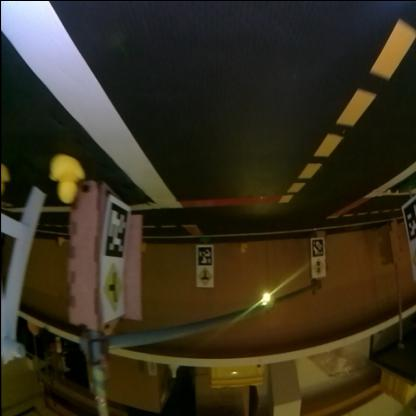Duckie: (49, 155, 84, 203), (1, 164, 10, 196), (240, 244, 246, 252)
Intersection sign: (102, 261, 122, 314), (197, 268, 213, 287)
QR code: (104, 202, 128, 258), (402, 196, 415, 244), (198, 245, 212, 265), (312, 238, 324, 257)
Signal sign: (312, 258, 324, 276)
Traffic light: (262, 292, 270, 308)
